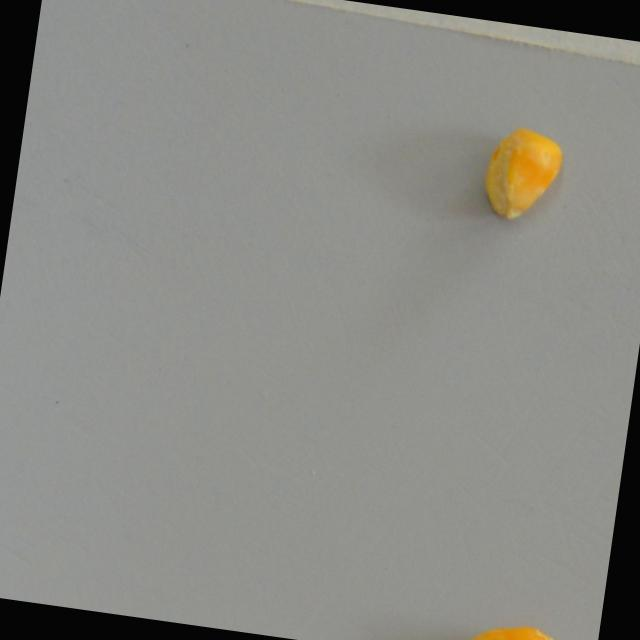no_desgerminado: (480, 125, 566, 228), (447, 613, 577, 640)
